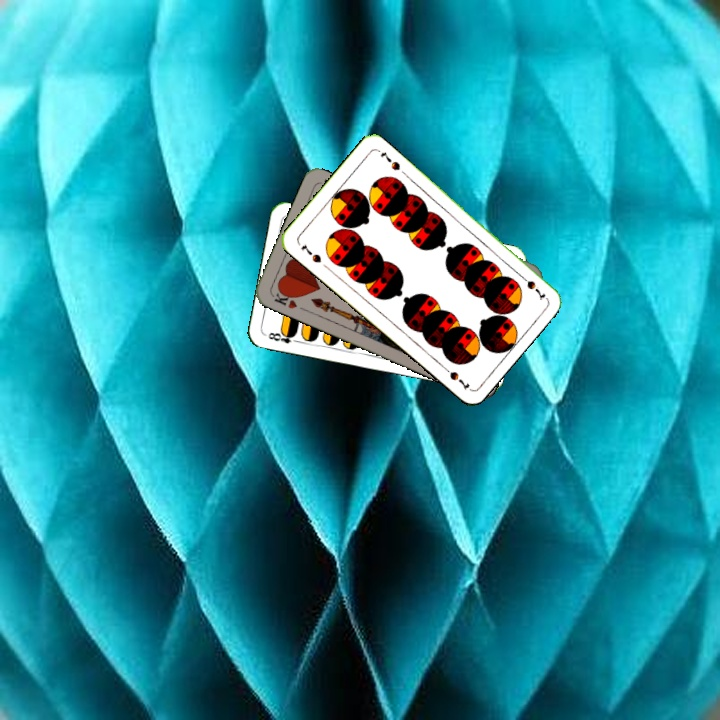E8: (264, 327, 302, 346)
HK: (269, 286, 299, 311)
S7: (515, 270, 548, 302), (297, 239, 324, 265)
